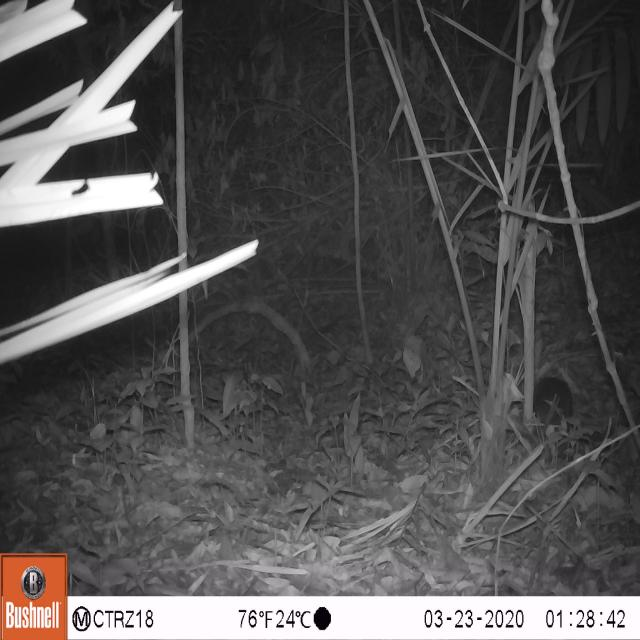Armadillo: (517, 358, 587, 466)
